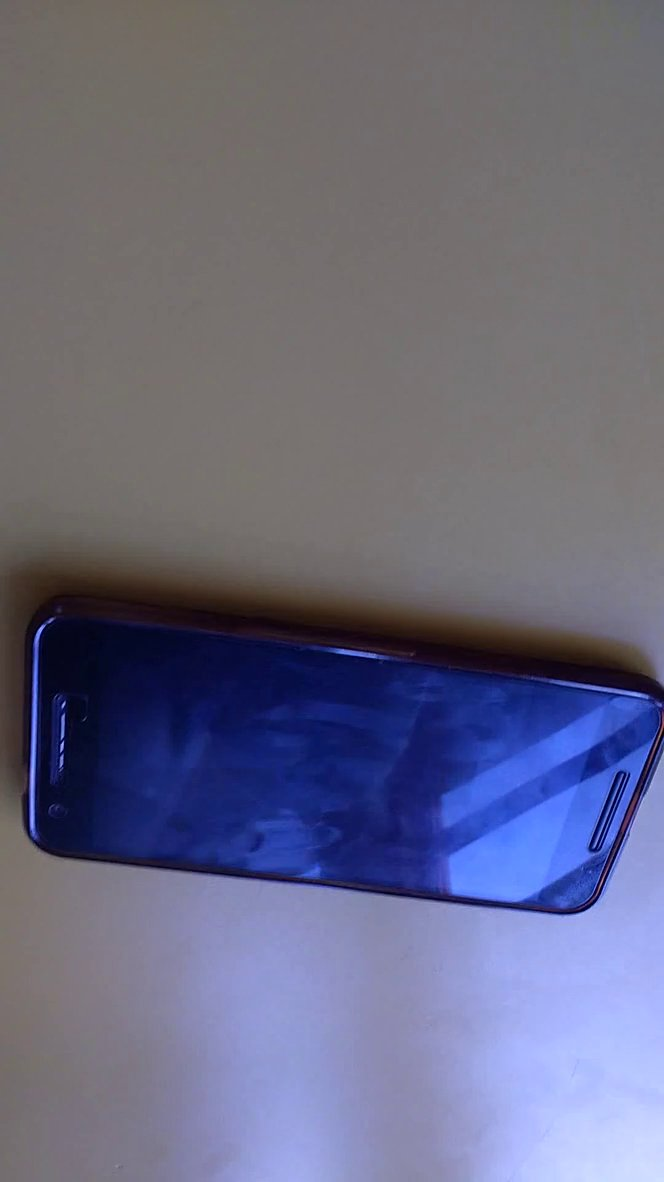phone: (1, 575, 664, 934)
